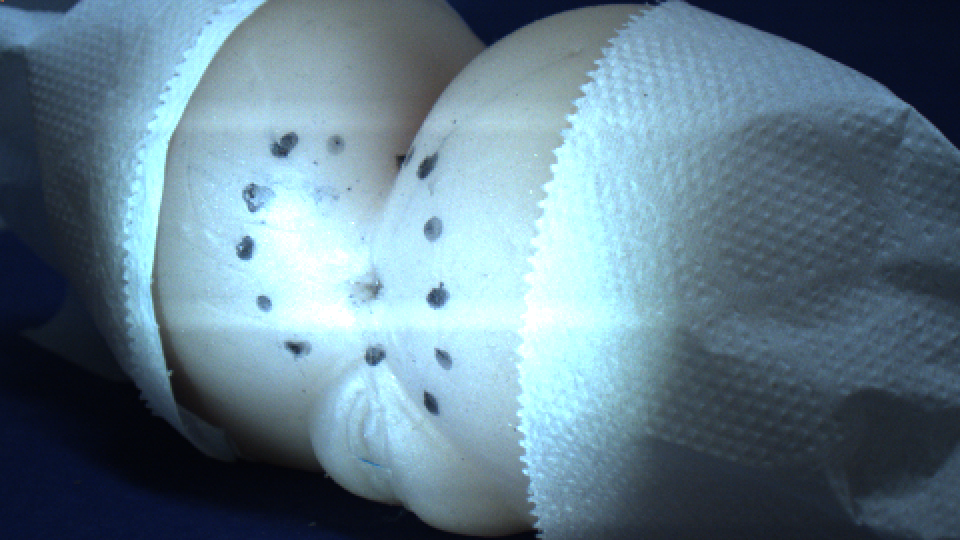asarp_marker: (258, 120, 302, 160), (234, 178, 284, 209), (416, 204, 453, 245), (351, 341, 395, 374), (422, 347, 465, 376), (229, 232, 265, 266), (416, 148, 444, 187), (280, 334, 316, 363), (421, 282, 458, 309), (324, 128, 351, 160), (251, 294, 285, 317), (419, 389, 444, 415), (391, 153, 419, 173)
